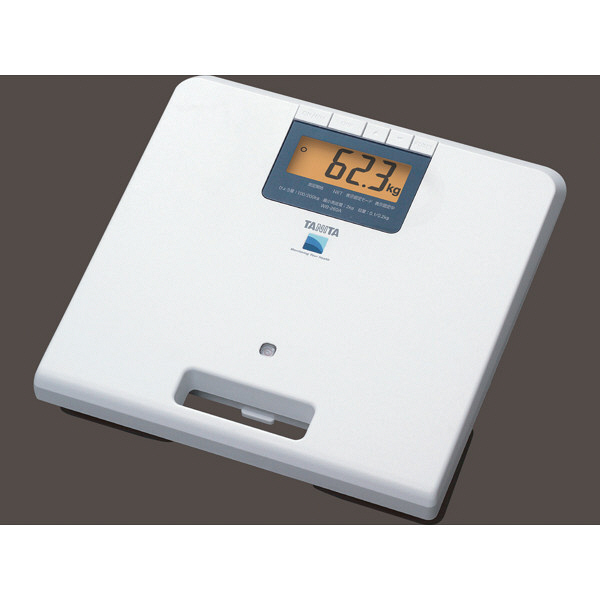LCD: (285, 134, 415, 206)
